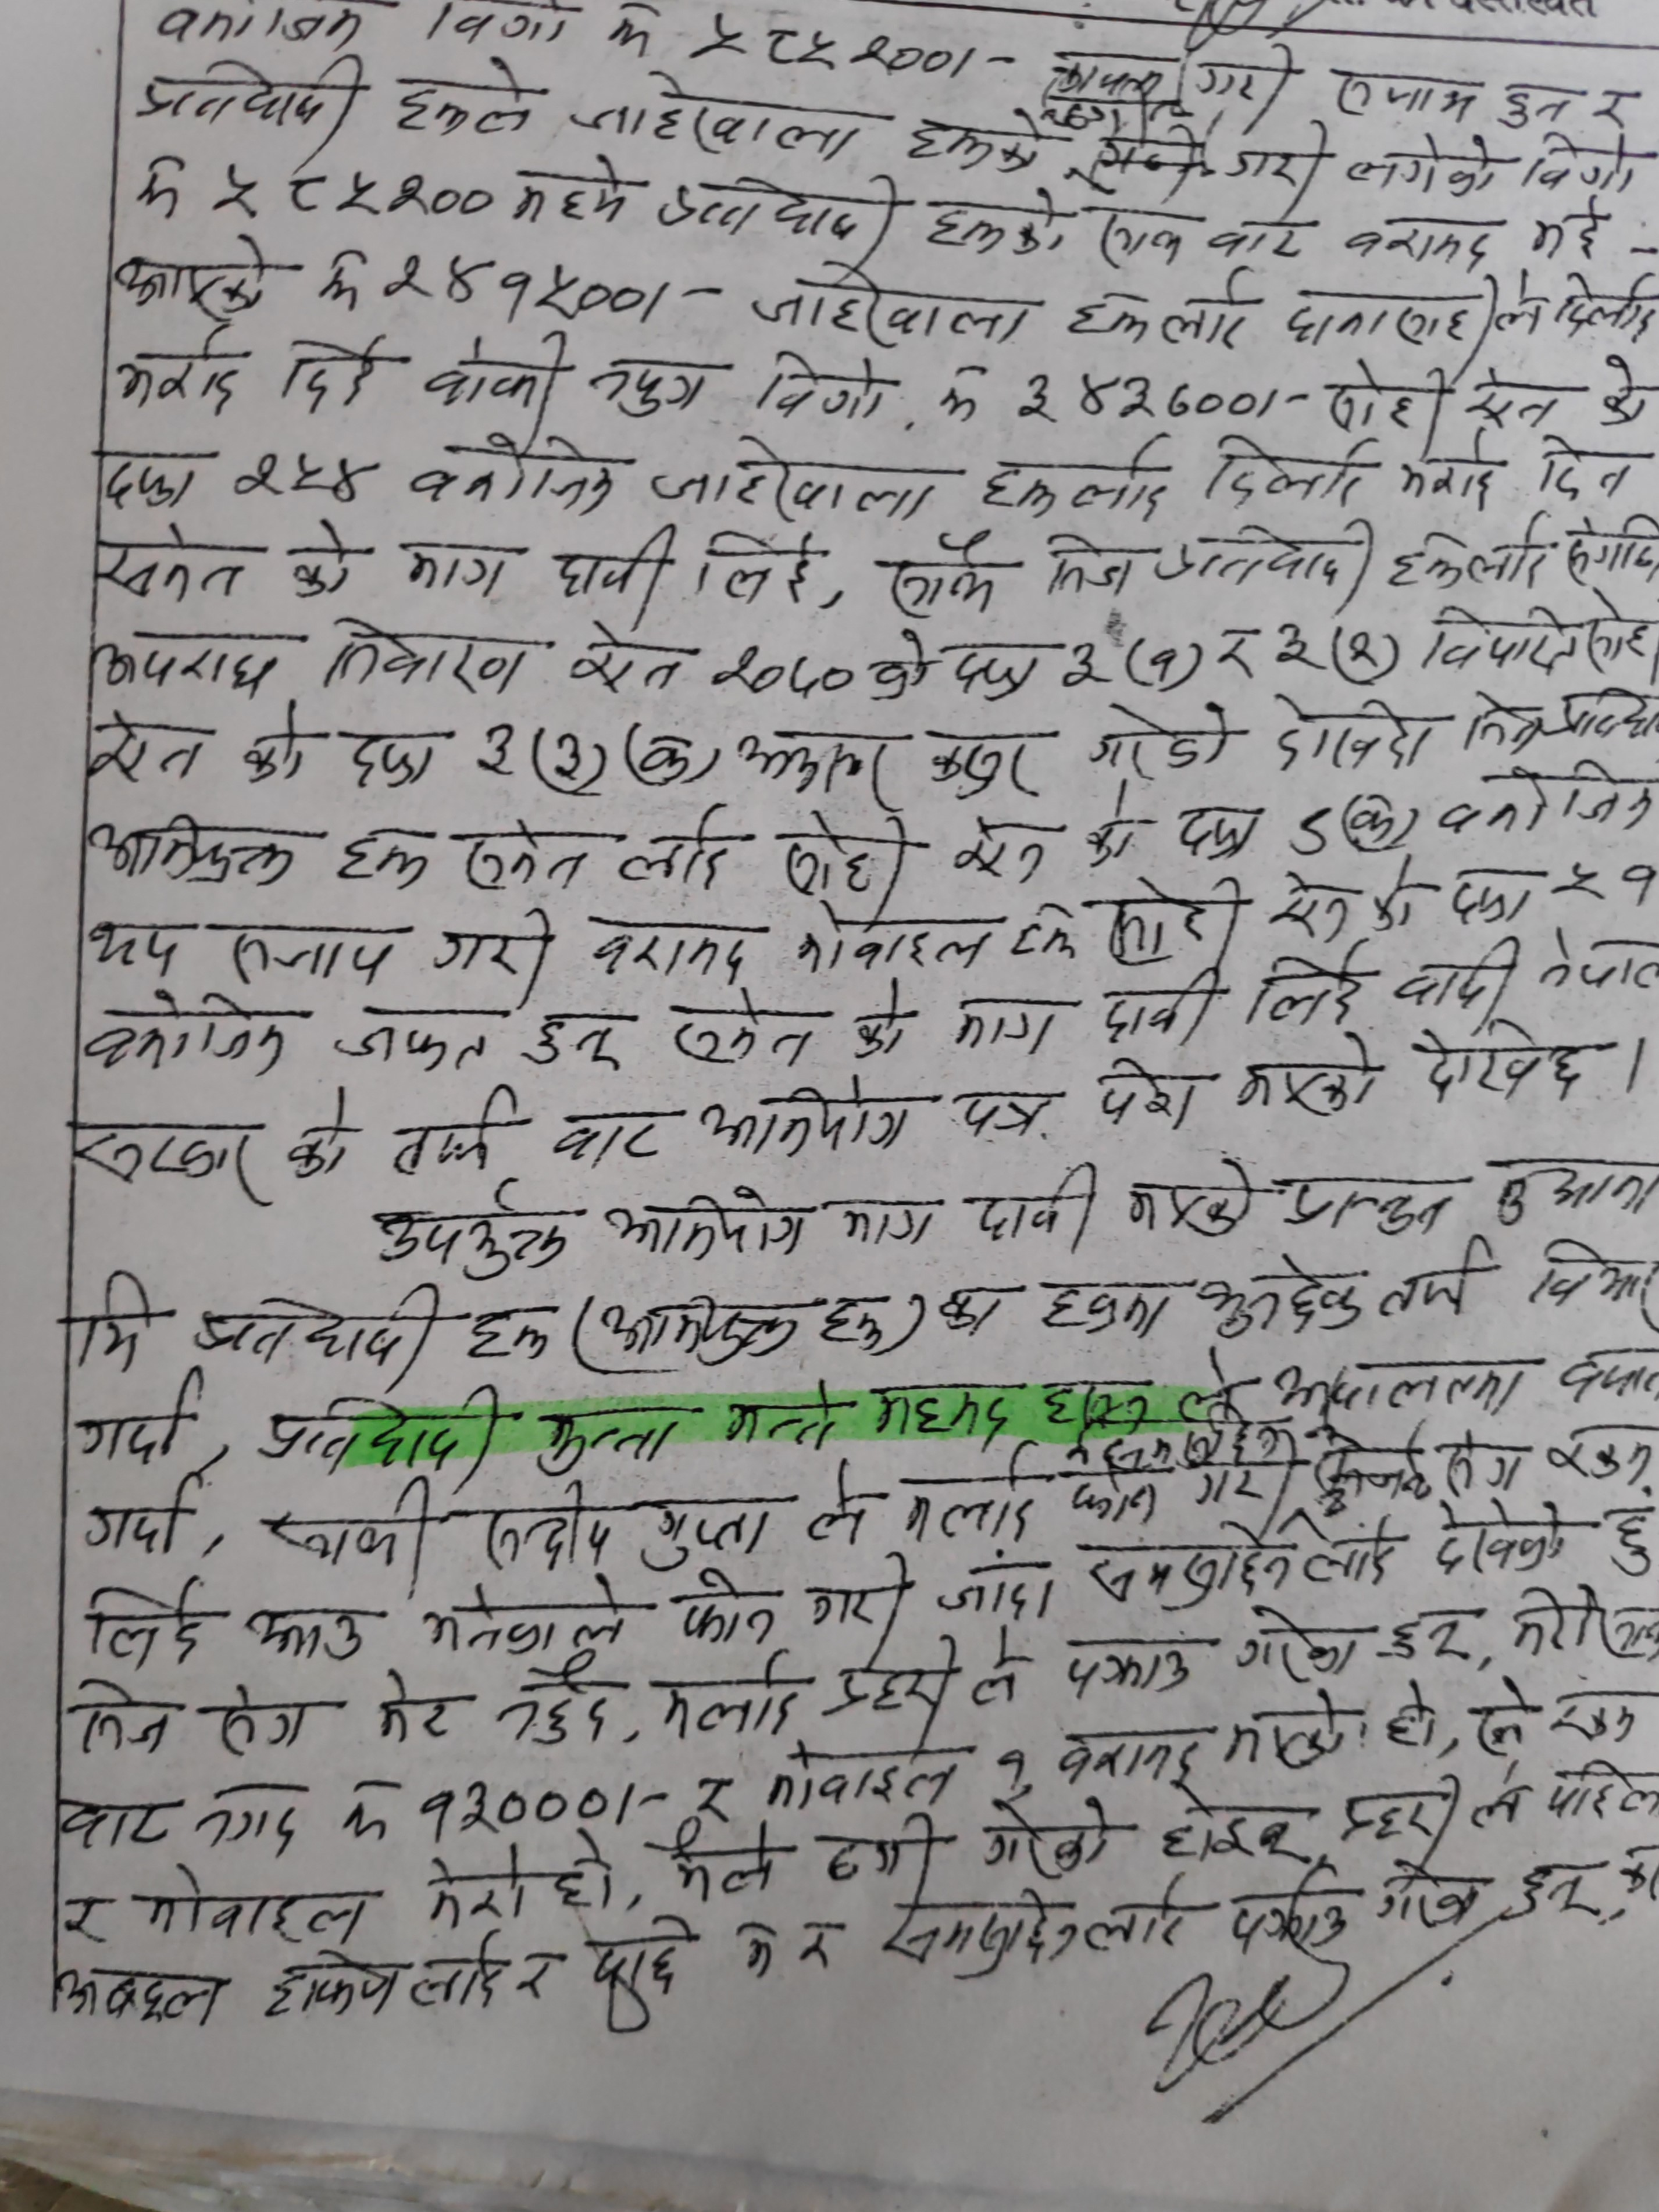text: (195, 1282, 554, 1385), (1073, 1514, 1398, 1609), (566, 73, 875, 172), (641, 430, 943, 526), (742, 258, 1035, 354), (314, 246, 650, 327), (1283, 268, 1547, 357), (932, 357, 1262, 428), (599, 1289, 892, 1369), (657, 167, 908, 260), (322, 1763, 610, 1841), (256, 1939, 509, 2027), (251, 1385, 507, 1472), (138, 54, 368, 150), (688, 10, 957, 91), (317, 610, 542, 704), (211, 155, 498, 228), (1150, 521, 1380, 610), (371, 1181, 579, 1278), (254, 1470, 437, 1580), (690, 1071, 920, 1157), (87, 799, 303, 890), (404, 430, 619, 517), (979, 428, 1182, 521), (85, 984, 291, 1075), (143, 1871, 378, 1949), (1412, 1010, 1607, 1104), (70, 1115, 265, 1207), (1434, 763, 1659, 843), (1079, 197, 1317, 272), (1063, 266, 1262, 355), (892, 1885, 1079, 1977), (601, 1177, 816, 1258), (416, 1581, 641, 1656), (1249, 688, 1438, 777), (1194, 1245, 1364, 1343), (784, 904, 995, 982), (98, 622, 298, 702), (1272, 1359, 1534, 1420), (416, 326, 577, 423), (120, 233, 286, 326), (1202, 425, 1377, 512), (828, 1618, 964, 1728), (1150, 1780, 1316, 1869), (385, 52, 544, 143), (577, 909, 760, 988), (774, 806, 920, 904), (892, 1453, 1040, 1548), (488, 1651, 631, 1750), (1389, 512, 1558, 596), (584, 1914, 701, 2034), (647, 1649, 798, 1742), (1485, 1151, 1659, 1231), (213, 920, 403, 993), (1230, 1031, 1384, 1122), (1419, 592, 1581, 676), (1277, 1170, 1462, 1244), (1263, 862, 1431, 942), (664, 988, 821, 1073), (1117, 1153, 1262, 1245), (732, 719, 897, 799), (476, 1475, 612, 1573), (627, 1486, 786, 1569), (328, 1000, 497, 1078), (1215, 1684, 1358, 1777), (965, 1157, 1098, 1256), (99, 521, 256, 604), (1103, 878, 1249, 967), (1527, 1235, 1659, 1332), (1506, 1581, 1659, 1665), (922, 181, 1068, 268), (1429, 1493, 1572, 1581), (110, 326, 244, 420), (390, 1082, 519, 1179), (80, 1573, 211, 1669), (1335, 1764, 1467, 1858), (1227, 1599, 1368, 1686), (1389, 934, 1528, 1021), (42, 1965, 225, 2031), (1321, 354, 1452, 446), (1345, 129, 1504, 204), (978, 1797, 1122, 1879), (545, 523, 681, 610), (141, 2, 383, 51), (1035, 1264, 1182, 1345), (80, 1468, 202, 1564), (802, 1554, 924, 1649), (877, 531, 1007, 620), (932, 1545, 1063, 1632), (694, 524, 819, 615), (1084, 705, 1236, 780), (904, 101, 1053, 178), (1096, 967, 1230, 1050), (188, 1777, 317, 1862), (1328, 61, 1485, 131), (1087, 1049, 1213, 1136), (1046, 1717, 1206, 1785), (709, 636, 857, 709), (453, 817, 594, 894), (411, 1843, 530, 1933), (535, 1406, 678, 1480), (753, 347, 892, 423), (92, 700, 213, 789), (612, 812, 739, 895), (1377, 1240, 1499, 1327), (75, 1381, 207, 1461), (816, 1808, 945, 1890), (1084, 1878, 1202, 1966), (871, 1376, 1021, 1446), (669, 1561, 784, 1651), (425, 907, 558, 986), (1366, 1853, 1488, 1937), (721, 1372, 849, 1453), (918, 732, 1051, 808), (1061, 1630, 1199, 1703), (1340, 209, 1500, 272), (274, 331, 389, 418), (1248, 948, 1370, 1029), (394, 533, 530, 606), (1230, 1871, 1354, 1951), (68, 1672, 179, 1761), (563, 625, 697, 698), (647, 1827, 781, 1900), (1195, 42, 1305, 129), (507, 157, 631, 233), (1520, 129, 1652, 199), (240, 1599, 376, 1665), (1549, 261, 1659, 343), (946, 806, 1054, 888), (1544, 1752, 1659, 1829), (1561, 505, 1659, 594), (828, 1188, 946, 1261), (586, 354, 716, 420), (77, 1271, 164, 1371), (1039, 523, 1141, 606), (200, 1683, 317, 1756), (544, 1104, 676, 1169), (1398, 434, 1504, 512), (943, 991, 1067, 1057), (369, 1667, 467, 1750), (1549, 681, 1659, 754), (1544, 1420, 1659, 1489), (101, 434, 206, 509), (1039, 47, 1175, 105), (279, 1087, 366, 1176), (1431, 1420, 1534, 1494), (519, 1008, 624, 1082), (342, 725, 457, 791), (802, 1460, 878, 1559), (61, 1791, 176, 1857), (232, 451, 382, 502), (1164, 796, 1267, 869), (1223, 132, 1337, 199), (1073, 777, 1150, 874), (941, 1080, 1063, 1141), (329, 824, 436, 894), (420, 0, 577, 47), (544, 1827, 629, 1912), (1532, 432, 1636, 502), (279, 519, 366, 603), (1584, 583, 1659, 679), (1537, 921, 1638, 991), (1457, 364, 1563, 430), (943, 636, 1049, 702), (1528, 188, 1615, 268), (1499, 1864, 1612, 1925), (1445, 860, 1541, 932), (1547, 855, 1659, 916), (232, 705, 312, 789), (85, 916, 195, 977), (1457, 683, 1547, 756), (864, 625, 943, 709), (1377, 1606, 1483, 1665), (1542, 1684, 1647, 1743), (1039, 1374, 1161, 1421), (1065, 1472, 1164, 1529), (1176, 1343, 1248, 1421), (1000, 900, 1084, 967), (1378, 1676, 1445, 1759), (972, 1625, 1035, 1712), (847, 975, 913, 1057), (1591, 352, 1659, 430), (1466, 1764, 1534, 1838), (1598, 1501, 1659, 1580), (129, 152, 195, 223), (1183, 1460, 1270, 1514), (1495, 78, 1581, 132), (720, 1916, 782, 1987), (932, 1282, 1006, 1341), (54, 1886, 115, 1956), (467, 719, 525, 787), (1208, 617, 1262, 688), (1054, 639, 1115, 700), (1267, 618, 1323, 681), (1281, 801, 1338, 860), (599, 7, 666, 57), (641, 726, 695, 787), (795, 1914, 843, 1980), (690, 1770, 748, 1825), (511, 1944, 570, 1998), (1349, 791, 1399, 850), (1586, 80, 1640, 132), (1338, 627, 1385, 678), (1141, 639, 1185, 691), (547, 732, 591, 782), (997, 1743, 1033, 1794)
